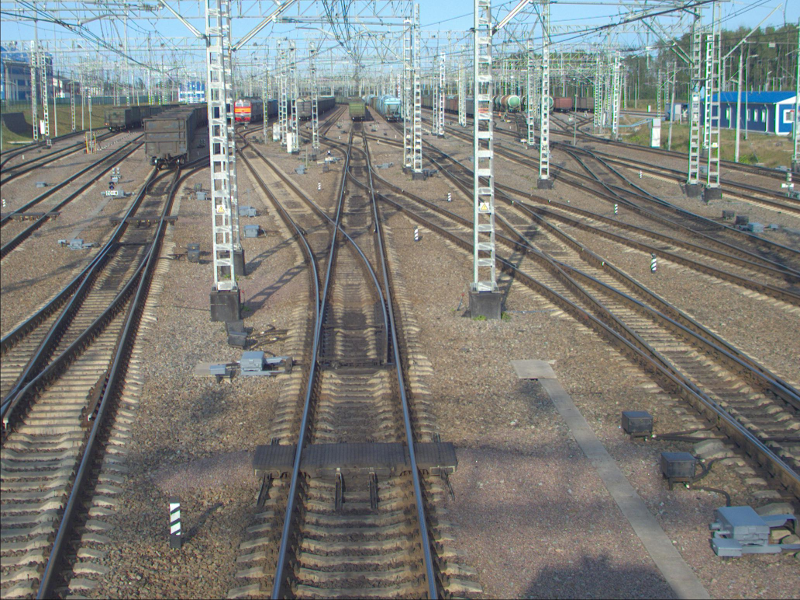right: (316, 211, 404, 365)
